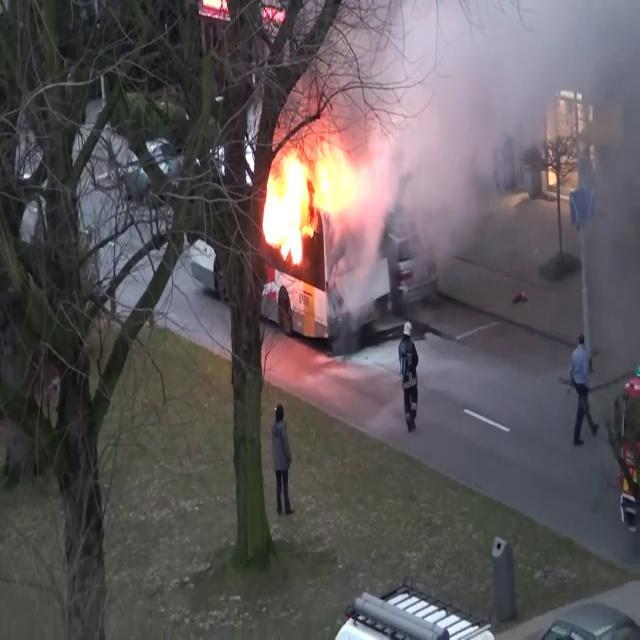Fire: (255, 130, 377, 272)
Smoke: (342, 0, 578, 247)
